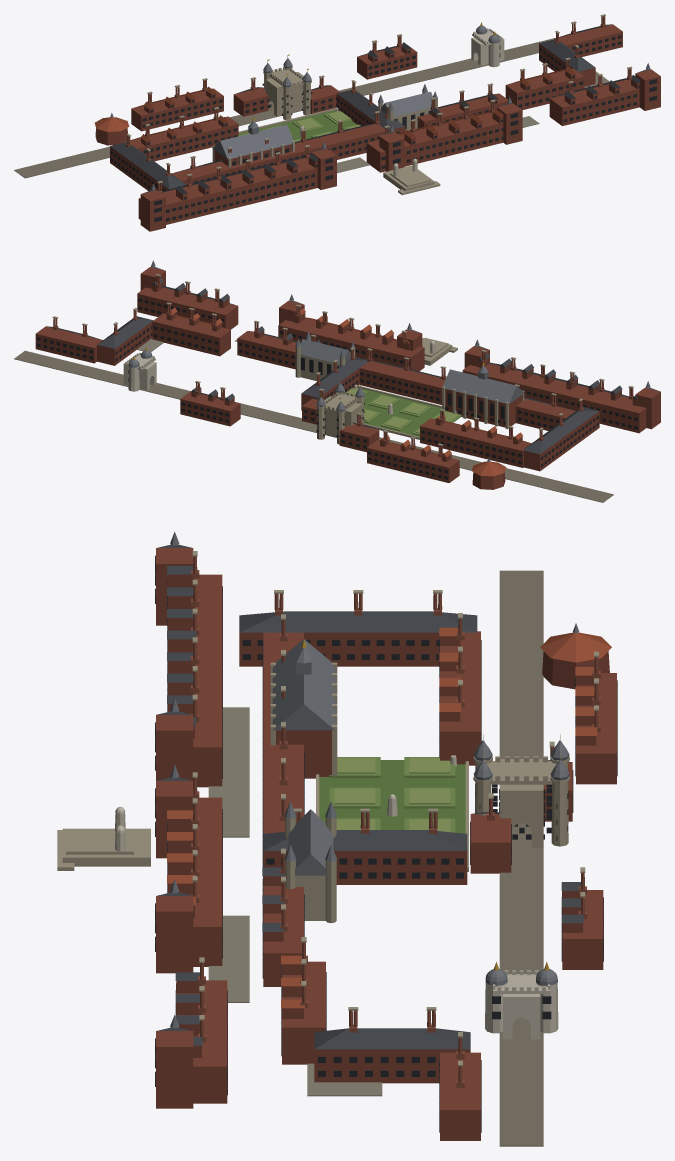
The model's file is whitehall_palace.glb.
3 renders of one model, top to bottom at view 1: azimuth 30°, elevation 25°; view 2: azimuth 150°, elevation 25°; view 3: azimuth 270°, elevation 25°, orthographic. The views are drawn at different scales.
Visible parts, largest first — view 1: whitehall_palace; view 2: whitehall_palace; view 3: whitehall_palace.
Part boxes in pixels (bbox=[...]): whitehall_palace: bbox=[14, 14, 660, 231]; whitehall_palace: bbox=[14, 260, 660, 502]; whitehall_palace: bbox=[57, 532, 617, 1146].
Size of the model in its own units: 400 by 35.6 by 165.
